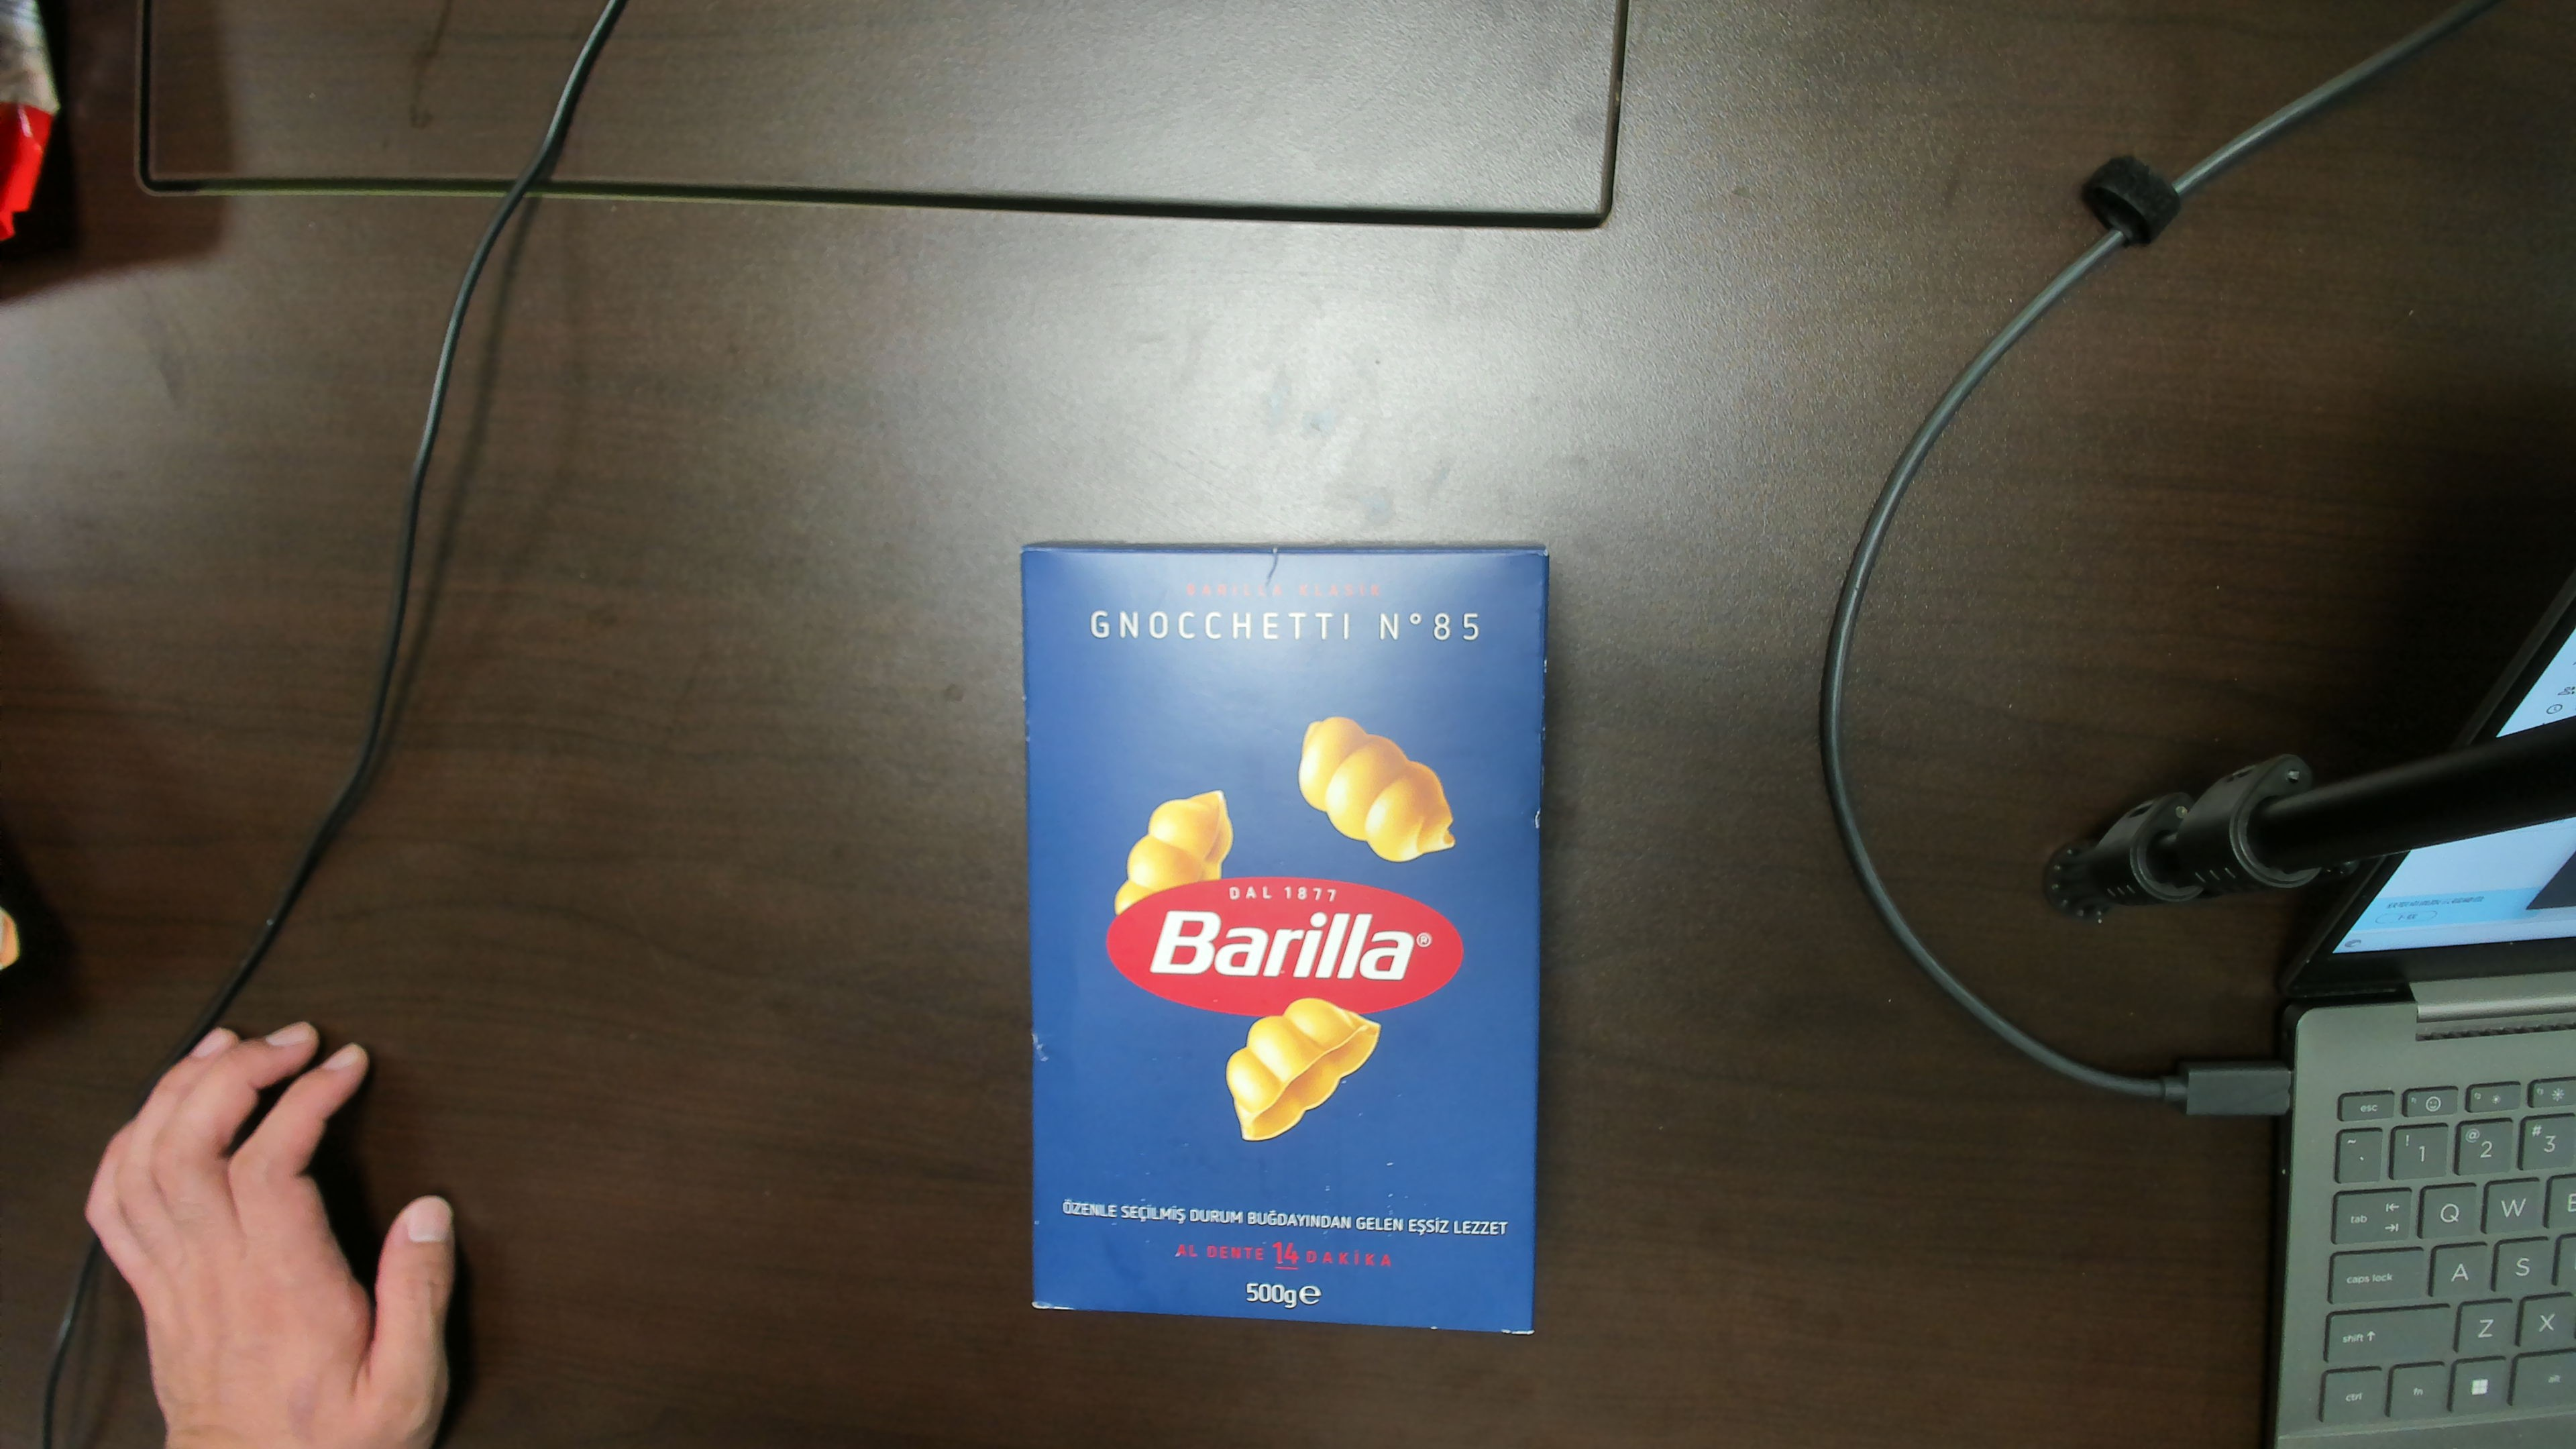Pasta_400-499g_Halal_NonHealthy: (1033, 554, 1530, 1309)
